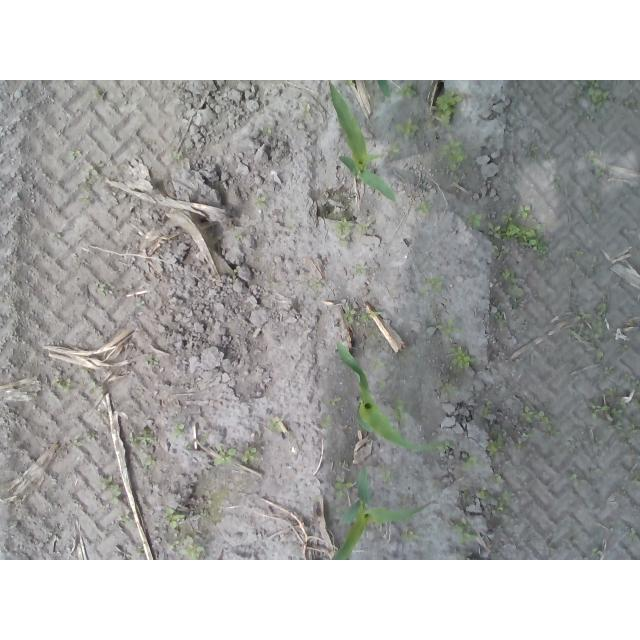Maize: (334, 340, 455, 453), (321, 80, 400, 204), (330, 467, 436, 554)
Weeds: (501, 219, 544, 254), (520, 406, 560, 442), (573, 301, 607, 343), (162, 534, 204, 560), (434, 90, 463, 125), (439, 140, 465, 169), (586, 80, 610, 108), (451, 521, 479, 544), (447, 344, 473, 368), (585, 149, 606, 178), (591, 402, 626, 418), (420, 276, 445, 296), (165, 506, 185, 530), (336, 218, 353, 246), (129, 428, 155, 445), (214, 447, 236, 466), (392, 399, 409, 423), (344, 309, 370, 324), (496, 489, 512, 512), (398, 82, 419, 99), (400, 119, 418, 137), (335, 481, 354, 497), (501, 269, 516, 288), (242, 447, 257, 466), (387, 144, 403, 161), (488, 222, 503, 240), (485, 440, 503, 455), (140, 455, 160, 468), (440, 320, 456, 336), (467, 210, 482, 227), (110, 487, 121, 505), (268, 420, 284, 432), (403, 528, 419, 540), (465, 457, 478, 471), (350, 264, 368, 274), (415, 203, 430, 214), (56, 383, 71, 394), (518, 206, 530, 218), (254, 196, 266, 208), (441, 381, 454, 392), (326, 397, 339, 408), (372, 358, 383, 371), (441, 442, 456, 451), (383, 470, 394, 482), (174, 424, 183, 438), (629, 424, 640, 435), (305, 280, 320, 288), (495, 474, 505, 486), (98, 286, 109, 296), (378, 382, 387, 394), (478, 490, 490, 499), (357, 224, 369, 232), (67, 151, 75, 161), (263, 127, 273, 135)
